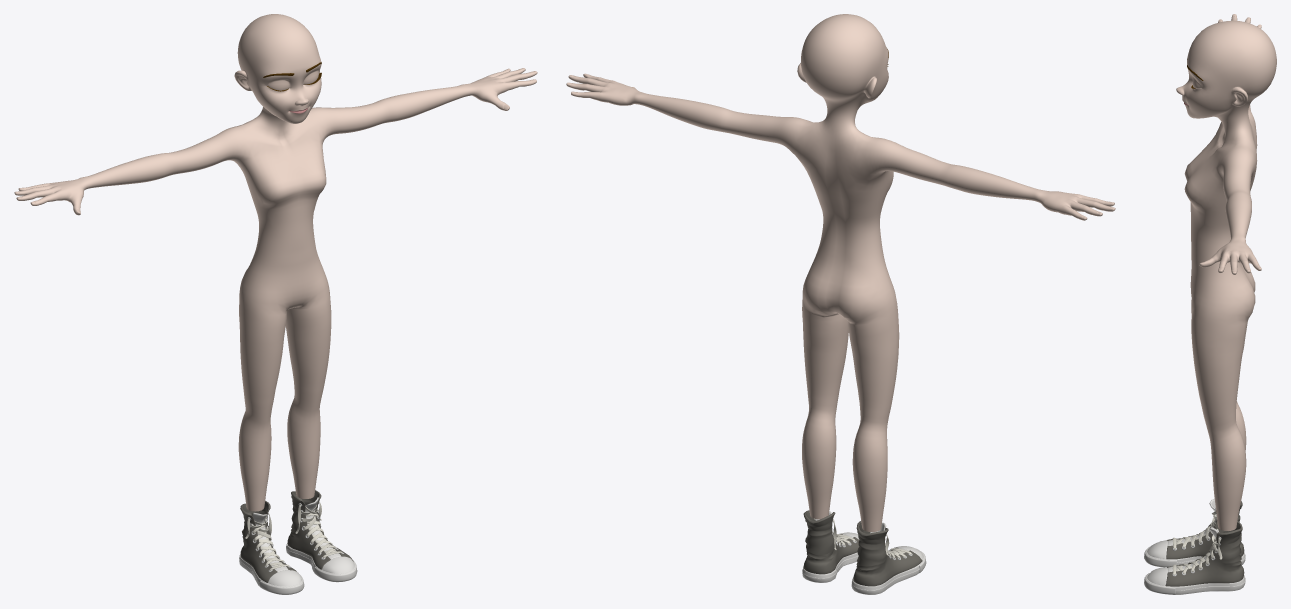
The model's file is MeryTopoRefer.fbx.
The picture shows the model from 3 angles, left to right: view 1: azimuth 30°, elevation 25°; view 2: azimuth 150°, elevation 25°; view 3: azimuth 270°, elevation 25°; orthographic projection. The views are drawn at different scales.
Parts seen in each view (by area): view 1: Mery_geo_cn_body, Mery_geo_lf_shoefabric, Mery_geo_rg_shoefabric, Mery_geo_lf_shoetongue, Mery_geo_rg_shoetongue; view 2: Mery_geo_cn_body, Mery_geo_rg_shoefabric, Mery_geo_lf_shoefabric, Mery_geo_rg_shoetongue; view 3: Mery_geo_cn_body, Mery_geo_lf_shoefabric, Mery_geo_lf_shoetongue, Mery_geo_rg_shoefabric, Mery_geo_rg_shoetongue, Mery_geo_lf_shoefront, Mery_geo_rg_shoefront.
Boxes of the visible parts, x1,y1,x2,y2 form: Mery_geo_cn_body: [14, 14, 537, 511]; Mery_geo_lf_shoefabric: [287, 490, 353, 569]; Mery_geo_rg_shoefabric: [240, 501, 296, 582]; Mery_geo_lf_shoetongue: [286, 497, 355, 582]; Mery_geo_rg_shoetongue: [239, 512, 302, 594]; Mery_geo_cn_body: [566, 14, 1115, 532]; Mery_geo_rg_shoefabric: [853, 521, 922, 586]; Mery_geo_lf_shoefabric: [803, 510, 859, 574]; Mery_geo_rg_shoetongue: [851, 522, 924, 594]; Mery_geo_cn_body: [1176, 14, 1276, 530]; Mery_geo_lf_shoefabric: [1165, 521, 1244, 586]; Mery_geo_lf_shoetongue: [1145, 527, 1245, 594]; Mery_geo_rg_shoefabric: [1166, 501, 1244, 559]; Mery_geo_rg_shoetongue: [1146, 499, 1245, 567]; Mery_geo_lf_shoefront: [1144, 573, 1175, 594]; Mery_geo_rg_shoefront: [1144, 546, 1176, 567].
Bounding box in the file's own units: 167 × 166 × 36.33.
